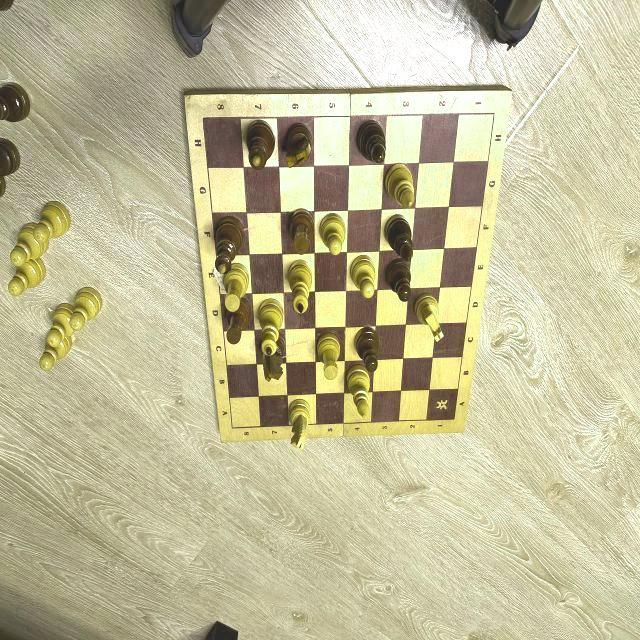chess-table-corners: (488, 107, 500, 120), (199, 113, 207, 124), (228, 424, 236, 432), (452, 414, 456, 424)
